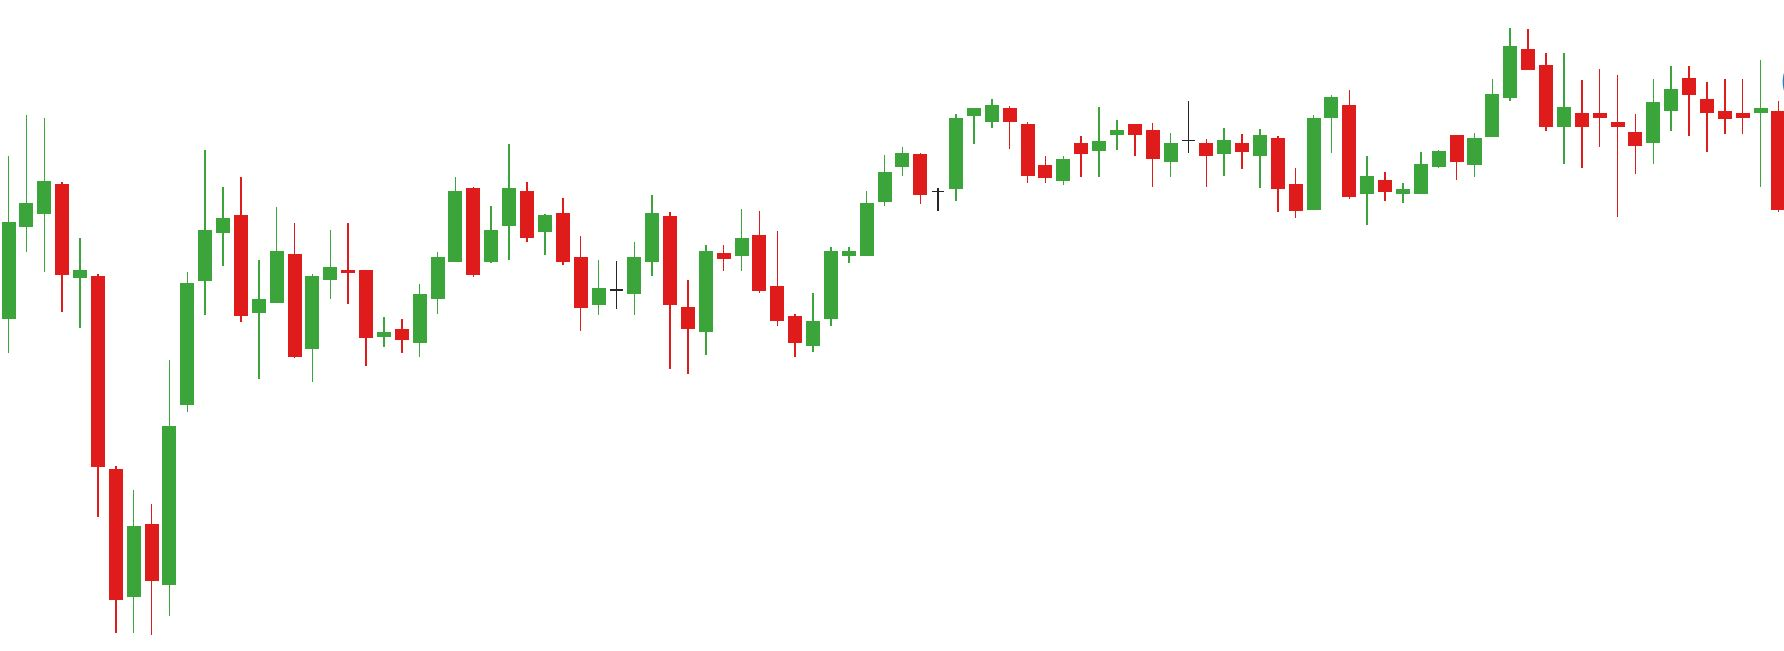buy: (573, 240, 716, 373)
